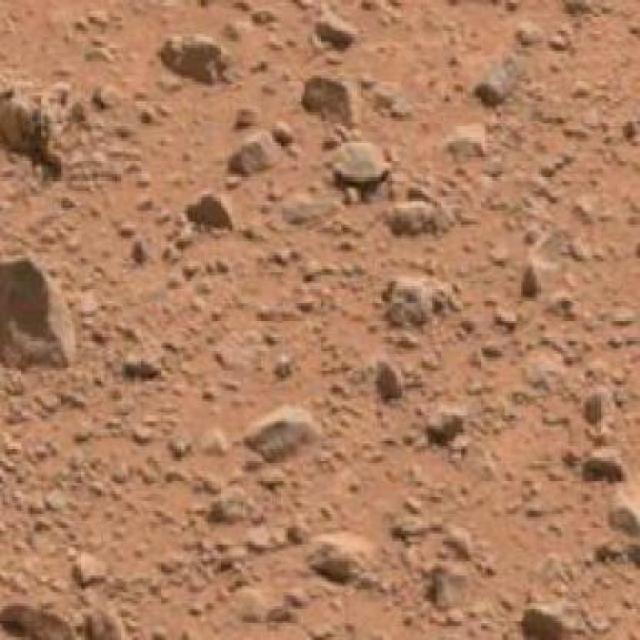rock: (0, 246, 75, 379)
